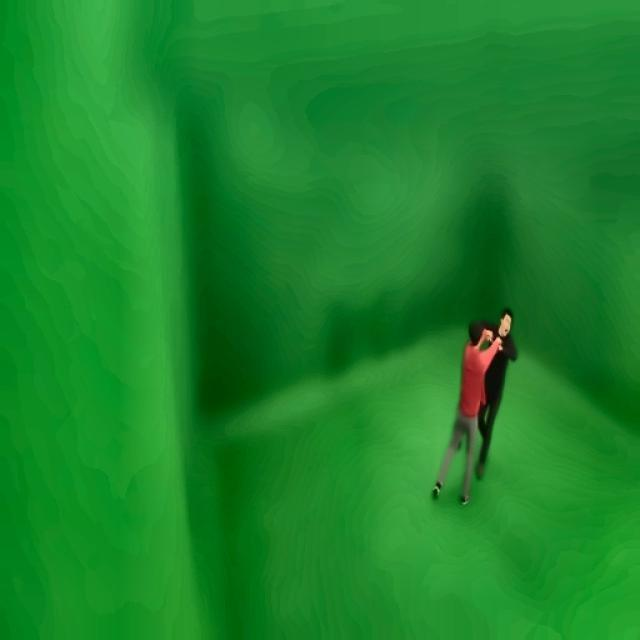violence: (432, 308, 518, 502)
